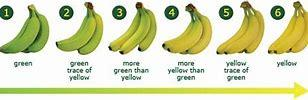banana: (2, 1, 49, 57), (59, 7, 107, 55), (169, 8, 213, 55), (228, 6, 264, 54), (121, 8, 154, 54), (279, 6, 308, 57)
